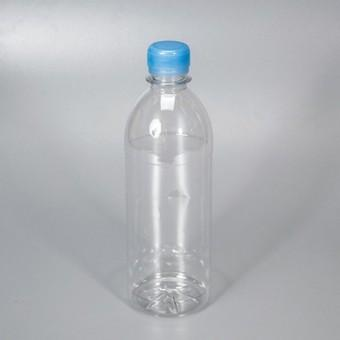plastic_bottle: (117, 37, 219, 314)
